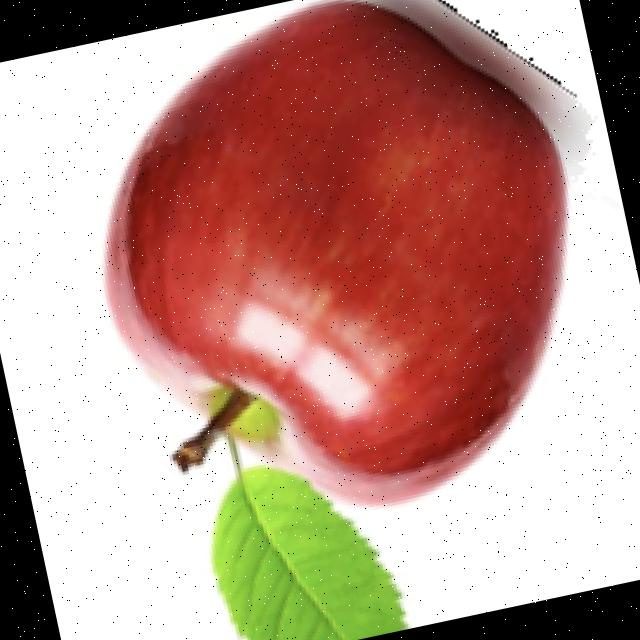apple: (97, 0, 598, 640)
